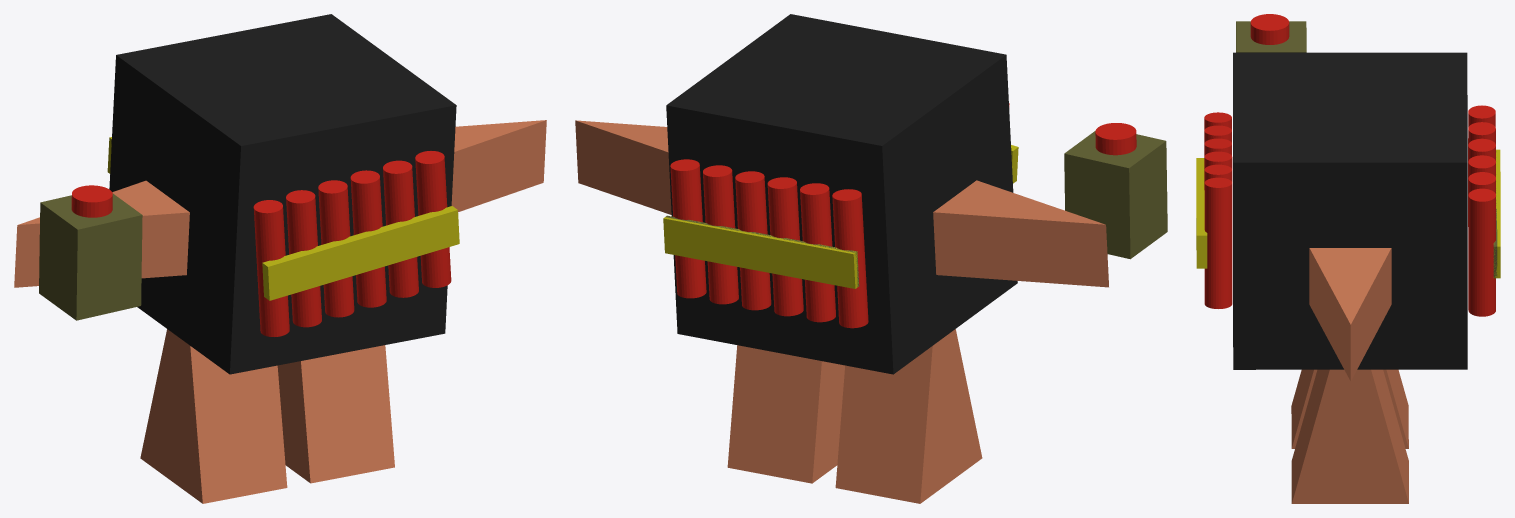
The model's file is charactermesh.dae.
3 views of the same model, side by side, from view 1: azimuth 30°, elevation 25°; view 2: azimuth 150°, elevation 25°; view 3: azimuth 270°, elevation 25° (orthographic). The views are drawn at different scales.
Parts seen in each view (by area): view 1: Character; view 2: Character; view 3: Character.
Boxes of the visible parts, x1=… form: Character: x1=14, y1=14, x2=546, y2=503; Character: x1=575, y1=14, x2=1167, y2=503; Character: x1=1196, y1=14, x2=1500, y2=503.
Bounding box in the file's own units: 4.94 × 2.6 × 3.45.
